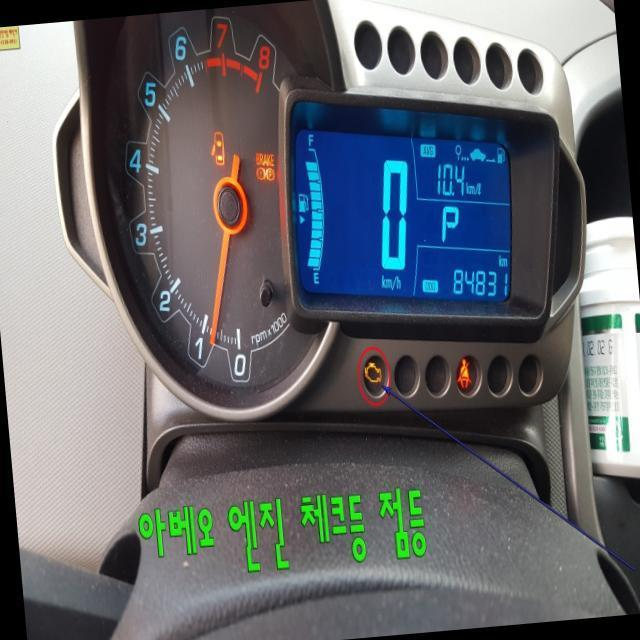Doors: (208, 128, 225, 166)
